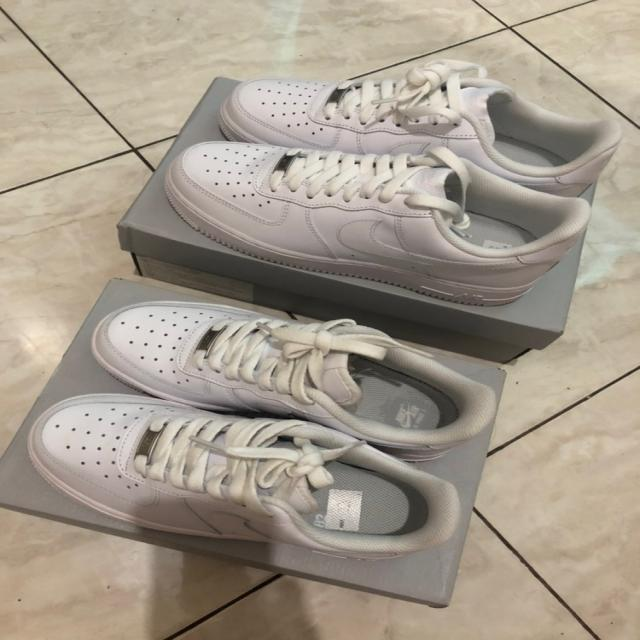nike original air force: (23, 387, 463, 581), (86, 280, 502, 470), (156, 134, 594, 309), (212, 66, 630, 182)
